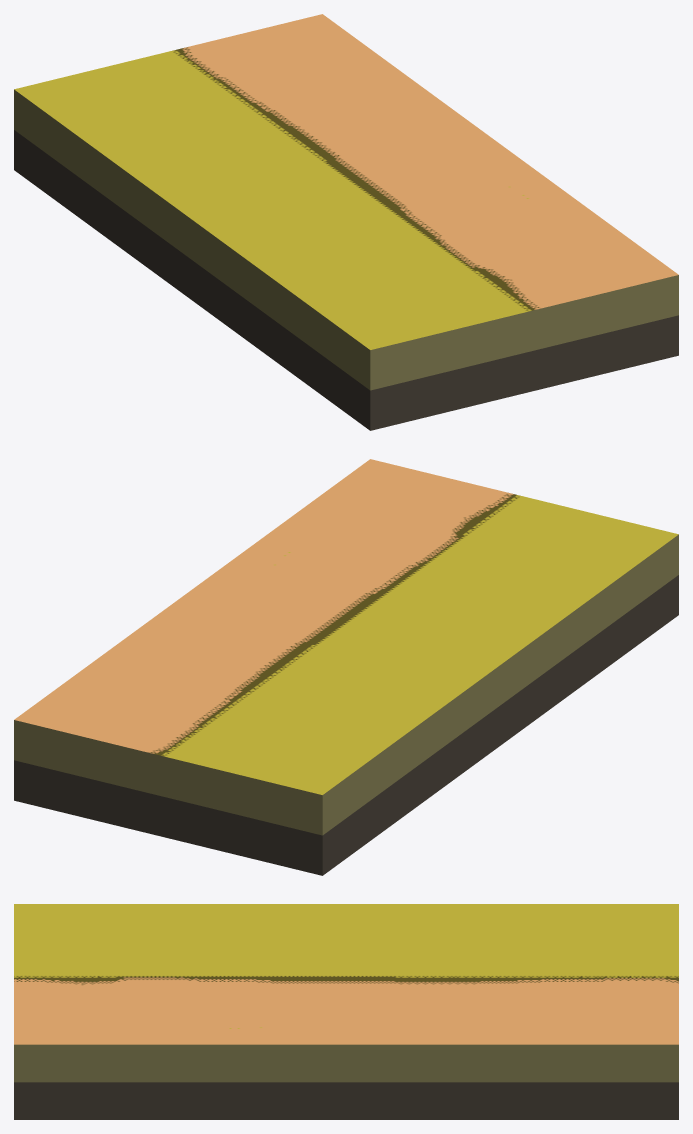
File: tile1_2 sand top.fbx
The picture shows the model from 3 angles, top to bottom: view 1: azimuth 30°, elevation 25°; view 2: azimuth 150°, elevation 25°; view 3: azimuth 270°, elevation 25°; orthographic projection. The views are drawn at different scales.
Parts seen in each view (by area): view 1: Cube.001; view 2: Cube.001; view 3: Cube.001.
Part boxes in pixels (x1,y1,x2,y2): Cube.001: (14, 14, 678, 430); Cube.001: (14, 459, 678, 875); Cube.001: (14, 904, 678, 1119).
Bounding box in the file's own units: 200 × 50 × 400.
Materials: 1 (1 with a texture image).
